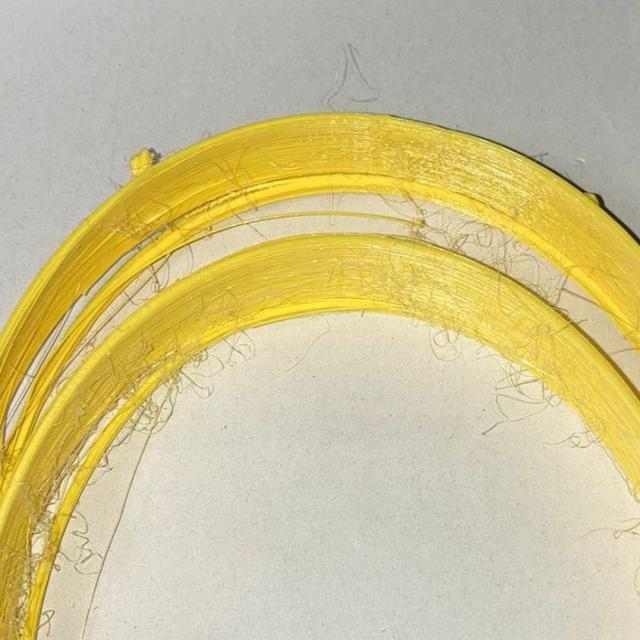Stringing: (420, 207, 480, 252), (497, 364, 548, 414), (474, 221, 520, 272), (512, 247, 560, 291), (182, 345, 220, 398), (128, 392, 174, 433), (26, 480, 62, 532), (428, 319, 467, 362), (11, 541, 45, 585), (120, 218, 152, 248)
